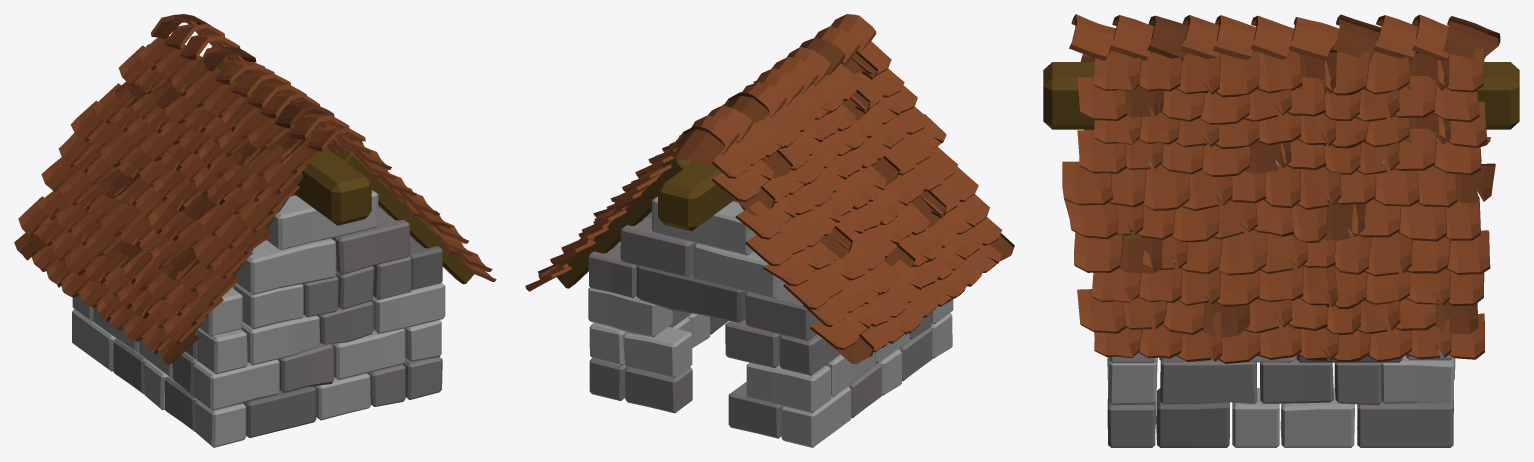
The model's file is house_v2.fbx.
3 renders of one model, left to right at view 1: azimuth 30°, elevation 25°; view 2: azimuth 150°, elevation 25°; view 3: azimuth 270°, elevation 25°, orthographic. The views are drawn at different scales.
Visible parts, largest first — view 1: Haus; view 2: Haus; view 3: Haus.
Part boxes in pixels (box(x1,y1,x2,y2)): Haus: box(14, 14, 496, 447); Haus: box(525, 14, 1014, 447); Haus: box(1043, 14, 1519, 447).
Bounding box in the file's own units: 2004 × 1708 × 2016.
